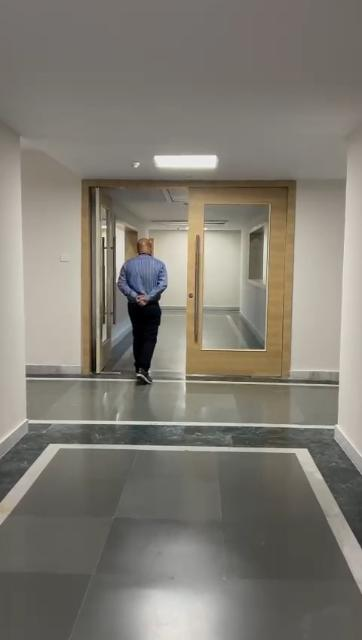door: (181, 186, 293, 372)
floor: (0, 378, 362, 640)
moving-obj: (124, 245, 182, 381)
wall: (305, 166, 362, 373), (28, 170, 76, 368), (0, 122, 24, 430)
